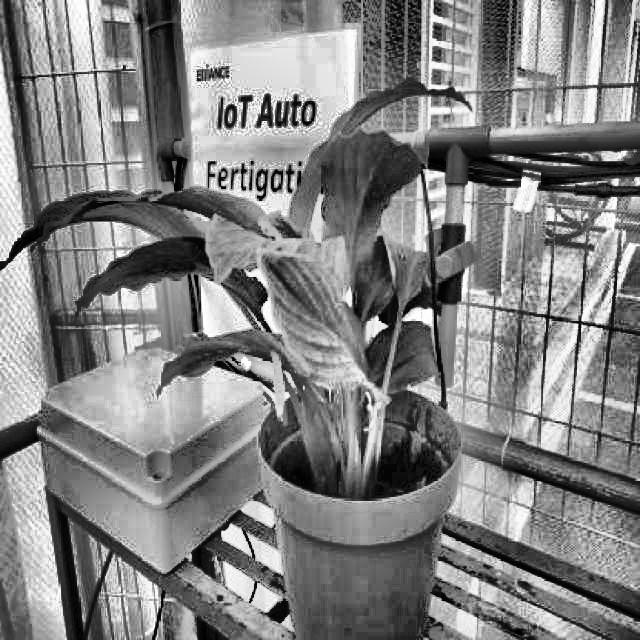plants: (0, 76, 477, 496)
